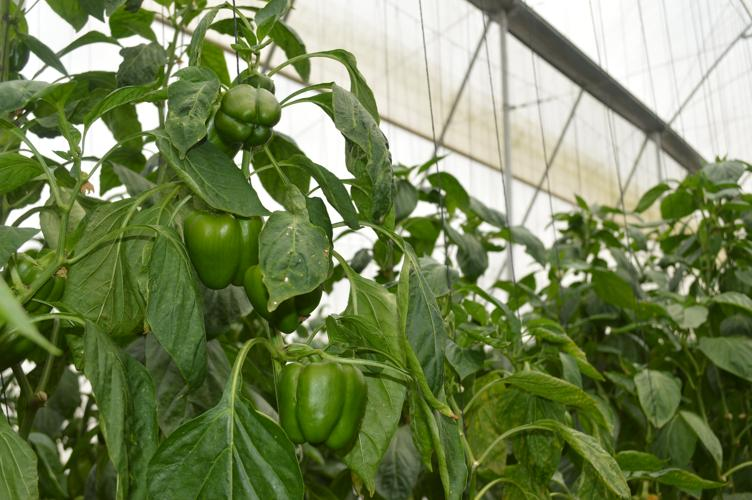BellPepper: (273, 360, 366, 458), (179, 210, 257, 291), (243, 269, 317, 338), (216, 81, 281, 147)
